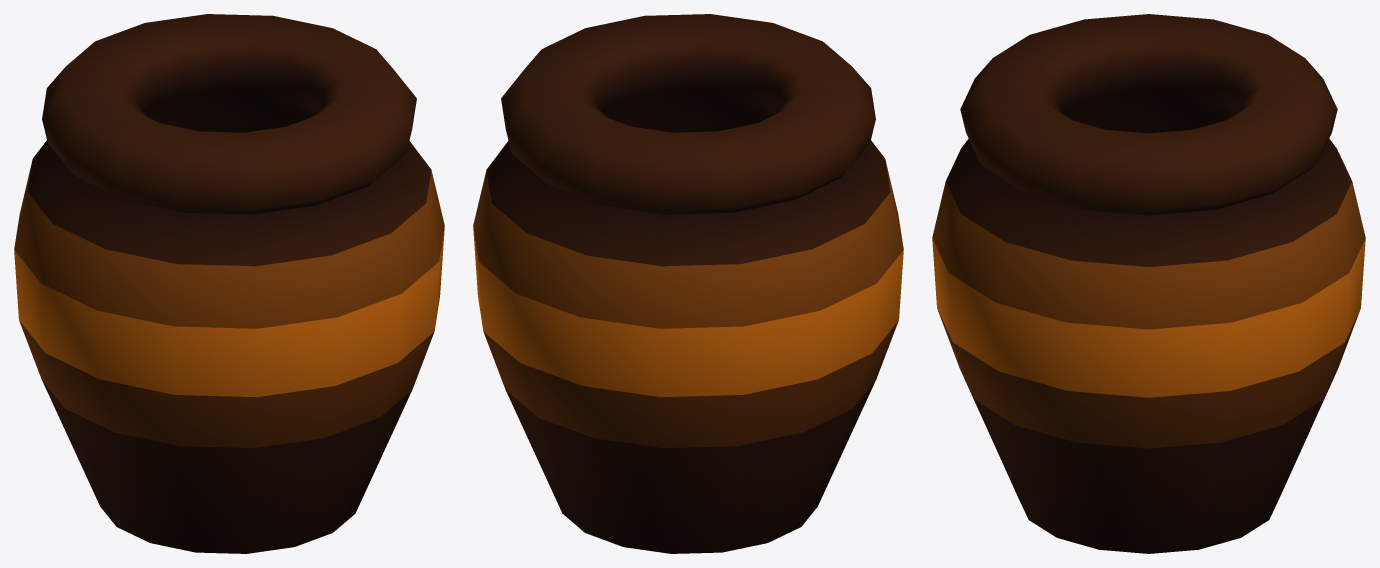
The model's file is HoneyPot_Medium.fbx.
The picture shows the model from 3 angles, left to right: view 1: azimuth 30°, elevation 25°; view 2: azimuth 150°, elevation 25°; view 3: azimuth 270°, elevation 25°; orthographic projection.
Parts seen in each view (by area): view 1: HoneyPot_Medium; view 2: HoneyPot_Medium; view 3: HoneyPot_Medium.
Part boxes in pixels (x1,y1,x2,y2): HoneyPot_Medium: [14, 14, 444, 553]; HoneyPot_Medium: [473, 14, 903, 553]; HoneyPot_Medium: [932, 14, 1365, 553].
Bounding box in the file's own units: 51.84 × 54.55 × 51.84.
